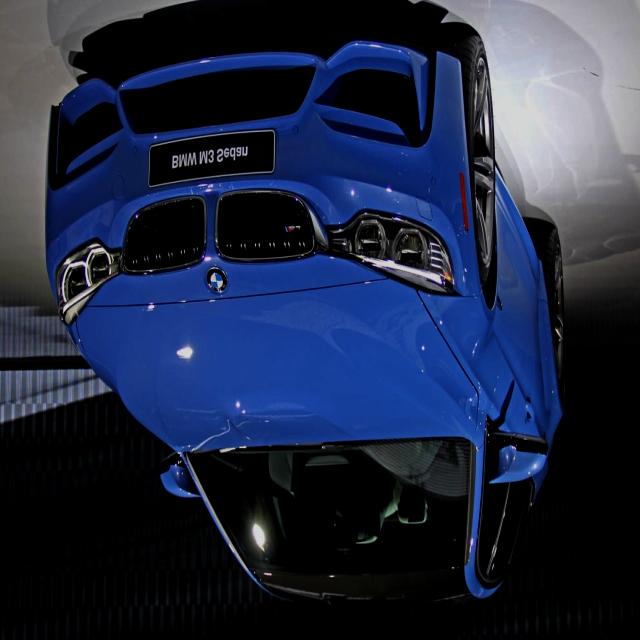blue: (40, 0, 575, 637)
